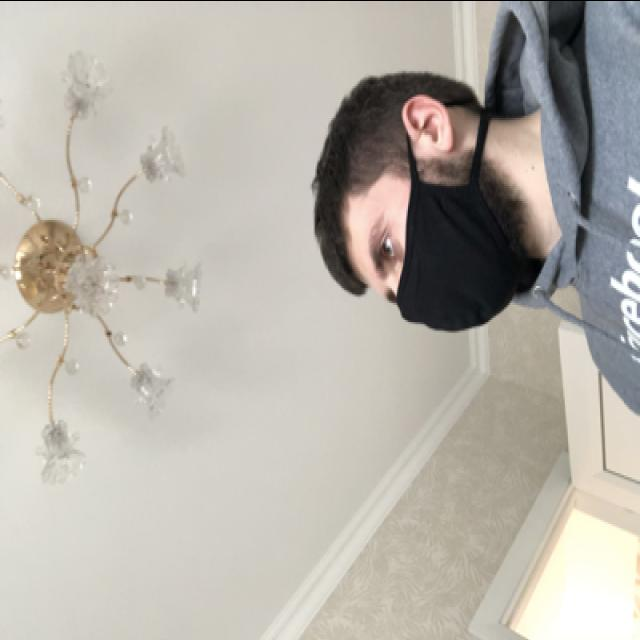mask: (363, 168, 523, 332)
